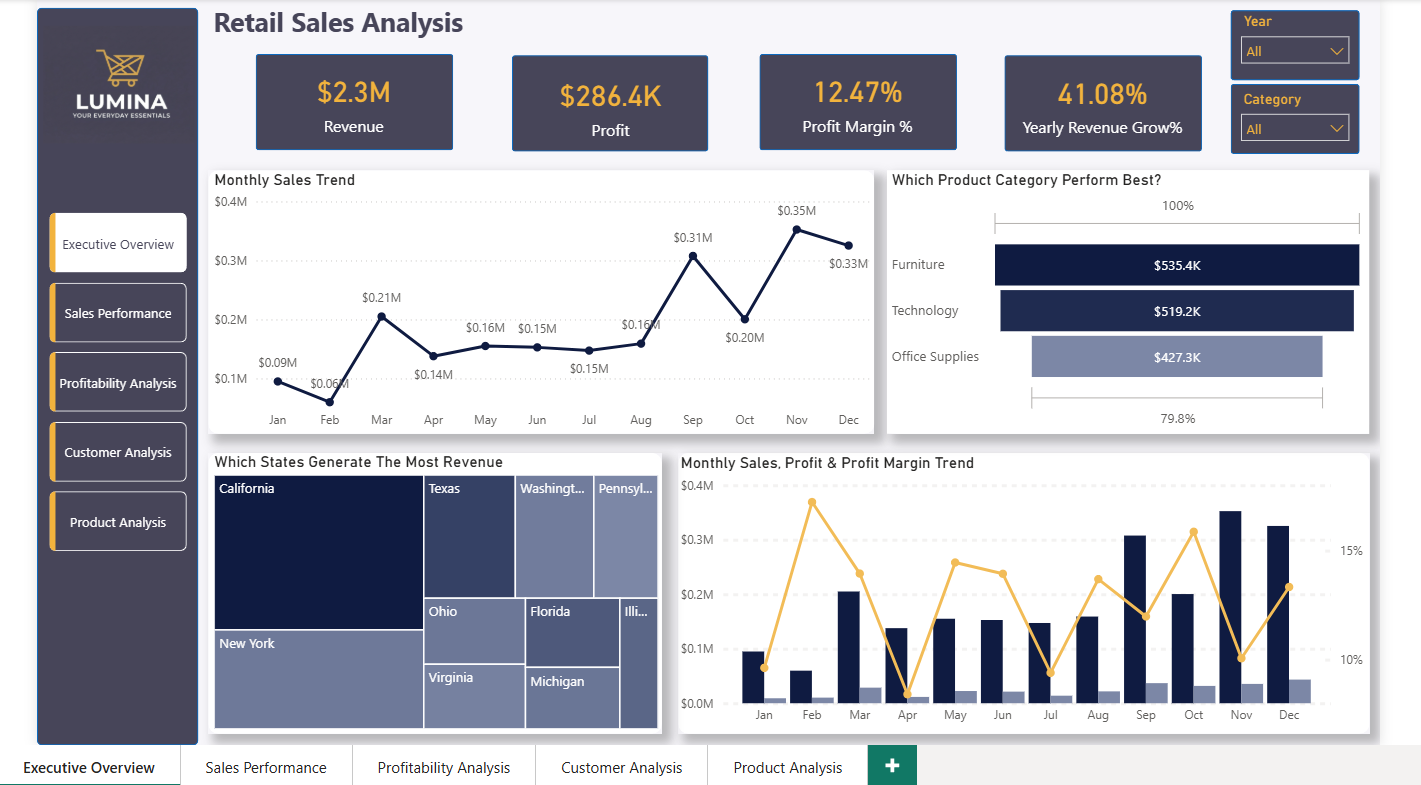

This screenshot's page, from the dashboard's own definition file:
{"tool":"powerbi","page":{"name":"Executive Overview","canvas":[1350,750],"ordinal":0},"visuals":[{"type":"shape","box":[644.7,456.2,695,282.8],"z":0},{"type":"shape","box":[172.2,172.2,669.8,265.2],"z":1000},{"type":"shape","box":[0,8.8,162.1,741.5],"z":2000},{"type":"pageNavigator","box":[12.4,214.5,138.9,341],"z":3000},{"type":"shape","box":[219.9,55.3,198.6,96.8],"z":5000},{"type":"shape","box":[477.5,56.6,197.3,96.8],"z":6000},{"type":"shape","box":[726.4,55.3,198.6,96.8],"z":7000},{"type":"shape","box":[972.7,56.6,198.6,96.8],"z":8000},{"type":"shape","box":[1200.2,11.3,129.4,70.4],"z":9000},{"type":"textbox","box":[172.4,0,317.4,47.1],"z":10000},{"type":"card","fields":{"Values":["fact_table.total_sale"]},"box":[219.9,55.3,197.3,95.5],"z":11000},{"type":"card","fields":{"Values":["fact_table.total_profit"]},"box":[478.8,59.1,196,95.5],"z":12000},{"type":"card","fields":{"Values":["fact_table.profit_margin"]},"box":[726.4,55.3,197.3,95.5],"z":13000},{"type":"card","fields":{"Values":["dim_customer.yearly_sales_grow %"]},"box":[972.7,56.6,197.3,95.5],"z":14000},{"type":"shape","box":[854.6,172.2,485.1,265.2],"z":15000},{"type":"shape","box":[172.2,456.2,456.2,282.8],"z":16000},{"type":"treemap","title":"Which States Generate The Most Revenue","fields":{"Group":["dim_location.state"],"Values":["fact_table.total_sale"]},"box":[173.4,456.2,456.2,282.8],"z":17000},{"type":"funnel","title":"Which Product Category Perform Best?","fields":{"Category":["dim_product.category"],"Y":["fact_table.total_sale"]},"box":[854.6,172.2,485.1,265.2],"z":18000},{"type":"slicer","fields":{"Values":["dim_date.Date.Variation.Date Hierarchy.Year"]},"box":[1200.2,8.8,129.4,69.1],"z":19000},{"type":"shape","box":[1200.2,85.5,129.4,70.4],"z":20000},{"type":"slicer","fields":{"Values":["dim_product.category"]},"box":[1200.2,86.7,129.4,69.1],"z":21000},{"type":"lineClusteredColumnComboChart","title":"Monthly Sales, Profit & Profit Margin Trend","fields":{"Category":["dim_date.month"],"Y":["fact_table.total_sale","fact_table.total_profit"],"Y2":["fact_table.profit_margin"]},"box":[642.6,457.3,696.1,280.8],"z":22000},{"type":"lineChart","title":"Monthly Sales Trend","fields":{"Y":["fact_table.total_sale"],"Category":["dim_date.month","dim_date.Date.Variation.Date Hierarchy.Quarter"]},"box":[173.7,172.2,668.6,269.2],"z":23000},{"type":"image","box":[6.3,18.9,152.1,134.5],"z":23001}]}

Visuals, with their boxes on the page's 1350x750 design canvas (x1, y1, x2, y2). These are canvas units, not pixel positions in the 1421x785 screenshot, which may show the page scaled, cropped or inside an application window:
shape: select_region(645, 456, 1340, 739)
shape: select_region(172, 172, 842, 437)
shape: select_region(0, 9, 162, 750)
pageNavigator: select_region(12, 214, 151, 556)
shape: select_region(220, 55, 418, 152)
shape: select_region(478, 57, 675, 153)
shape: select_region(726, 55, 925, 152)
shape: select_region(973, 57, 1171, 153)
shape: select_region(1200, 11, 1330, 82)
textbox: select_region(172, 0, 490, 47)
card - fact_table.total_sale: select_region(220, 55, 417, 151)
card - fact_table.total_profit: select_region(479, 59, 675, 155)
card - fact_table.profit_margin: select_region(726, 55, 924, 151)
card - dim_customer.yearly_sales_grow %: select_region(973, 57, 1170, 152)
shape: select_region(855, 172, 1340, 437)
shape: select_region(172, 456, 628, 739)
"Which States Generate The Most Revenue" treemap: select_region(173, 456, 630, 739)
"Which Product Category Perform Best?" funnel: select_region(855, 172, 1340, 437)
slicer - dim_date.Date.Variation.Date Hierarchy.Year: select_region(1200, 9, 1330, 78)
shape: select_region(1200, 86, 1330, 156)
slicer - dim_product.category: select_region(1200, 87, 1330, 156)
"Monthly Sales, Profit & Profit Margin Trend" lineClusteredColumnComboChart: select_region(643, 457, 1339, 738)
"Monthly Sales Trend" lineChart: select_region(174, 172, 842, 441)
image: select_region(6, 19, 158, 153)
